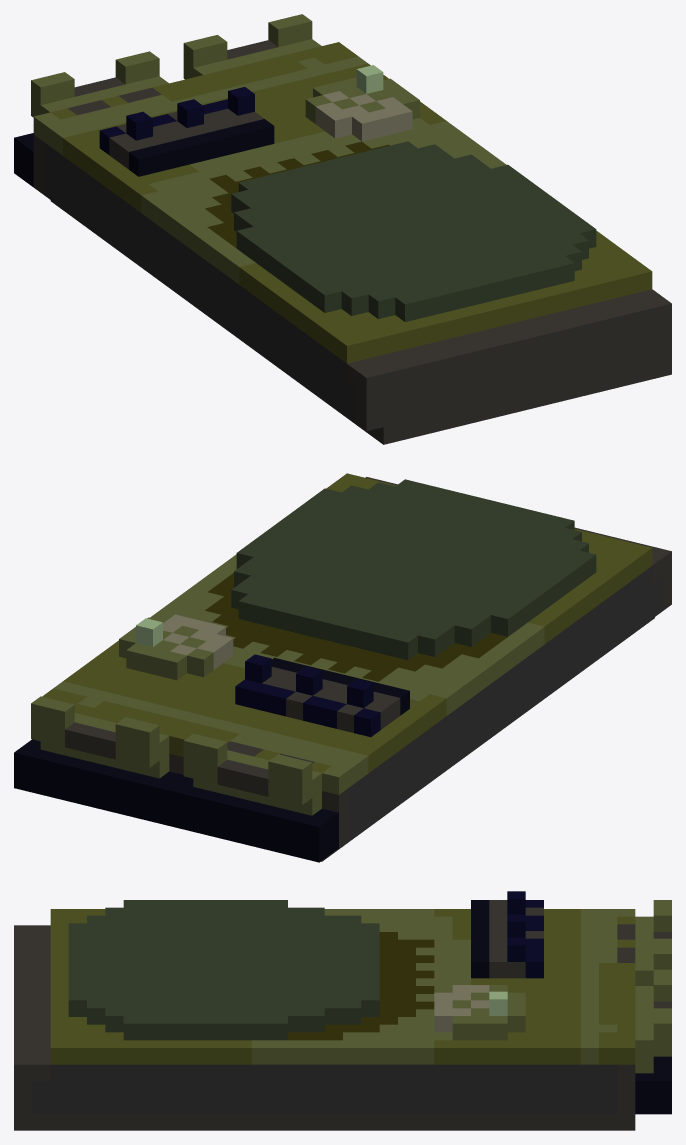
File: light-body.glb
The picture shows the model from 3 angles, top to bottom: view 1: azimuth 30°, elevation 25°; view 2: azimuth 150°, elevation 25°; view 3: azimuth 270°, elevation 25°; orthographic projection. The views are drawn at different scales.
Parts seen in each view (by area): view 1: Untitled; view 2: Untitled; view 3: Untitled.
Boxes of the visible parts, box(x1,y1,x2,y2) form: Untitled: box(14, 14, 671, 444); Untitled: box(14, 473, 671, 862); Untitled: box(14, 891, 671, 1130).
Size of the model in its own units: 1.8 by 0.7 by 3.6.
1 material, 1 textured.
